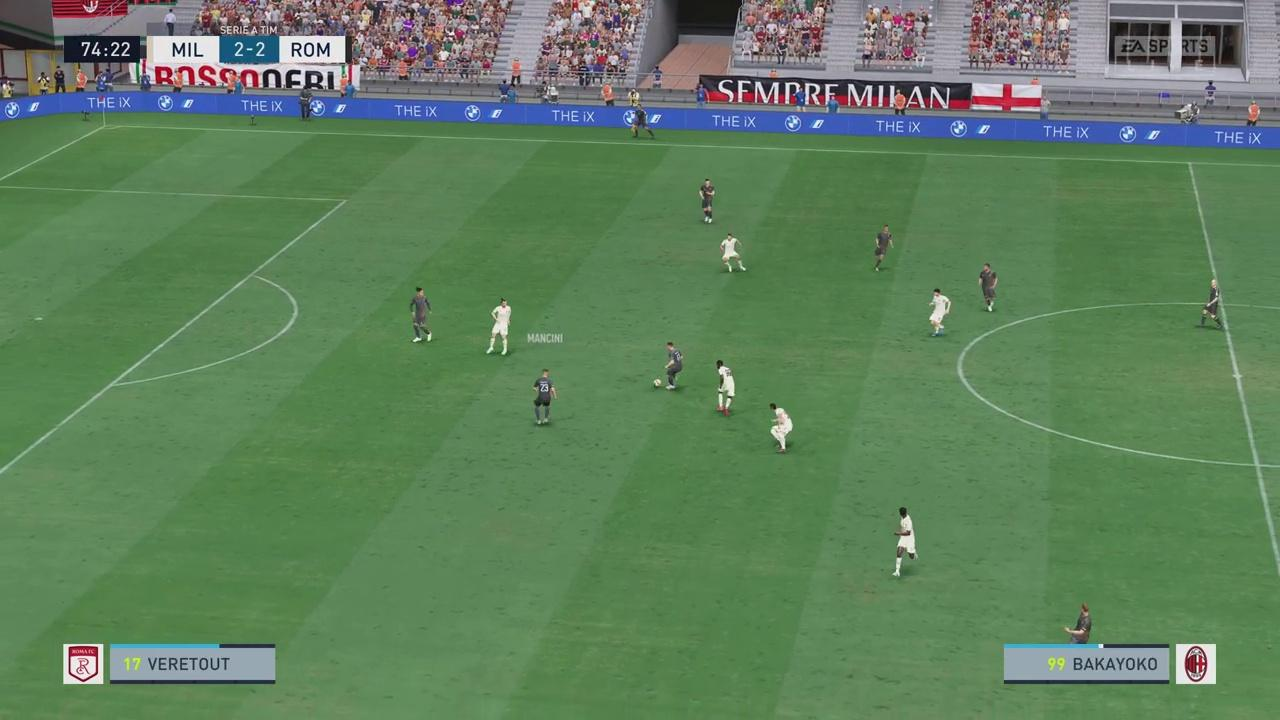scoreboard: (154, 36, 356, 66)
timestamp: (64, 34, 141, 60)
